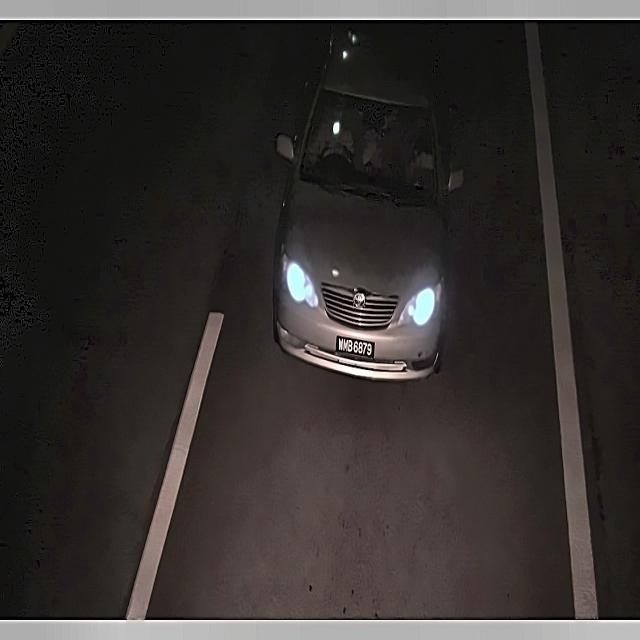car: (333, 334, 378, 362)
